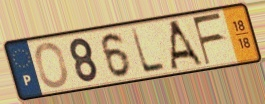6: (100, 31, 133, 79)
8: (68, 36, 100, 84)
A: (169, 18, 206, 71)
F: (190, 11, 226, 68)
L: (128, 26, 168, 75)
O: (34, 41, 70, 89)
